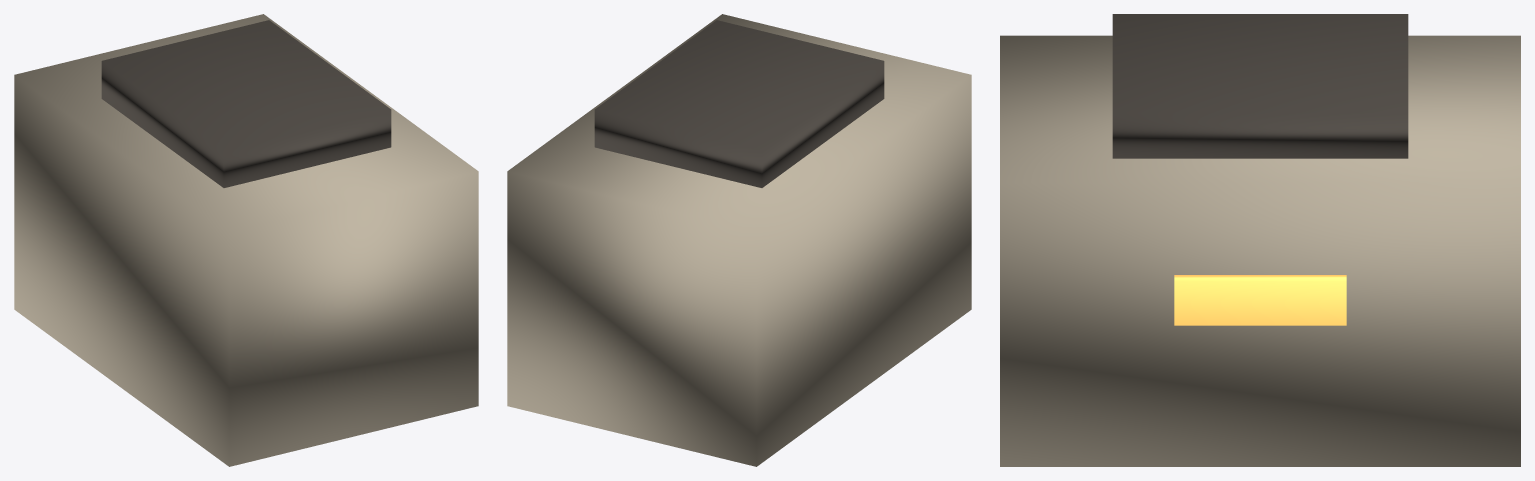
File: jovian-harvester-ballast-pod-lod2.glb
3 views of the same model, side by side, from view 1: azimuth 30°, elevation 25°; view 2: azimuth 150°, elevation 25°; view 3: azimuth 270°, elevation 25° (orthographic). The views are drawn at different scales.
Visible parts, largest first — view 1: jovian-harvester-ballast-pod-shell, jovian-harvester-ballast-pod-mount; view 2: jovian-harvester-ballast-pod-shell, jovian-harvester-ballast-pod-mount; view 3: jovian-harvester-ballast-pod-shell, jovian-harvester-ballast-pod-mount, jovian-harvester-ballast-pod-marker.
Boxes of the visible parts, x1,y1,x2,y2 form: jovian-harvester-ballast-pod-shell: (14, 14, 478, 466); jovian-harvester-ballast-pod-mount: (101, 20, 391, 187); jovian-harvester-ballast-pod-shell: (507, 14, 971, 466); jovian-harvester-ballast-pod-mount: (594, 20, 884, 187); jovian-harvester-ballast-pod-shell: (1000, 35, 1520, 466); jovian-harvester-ballast-pod-mount: (1112, 14, 1408, 158); jovian-harvester-ballast-pod-marker: (1174, 275, 1346, 325).
Size of the model in its own units: 1.65 by 1.65 by 2.36.
